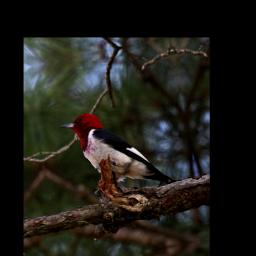Woodpecker: (55, 95, 183, 204)
